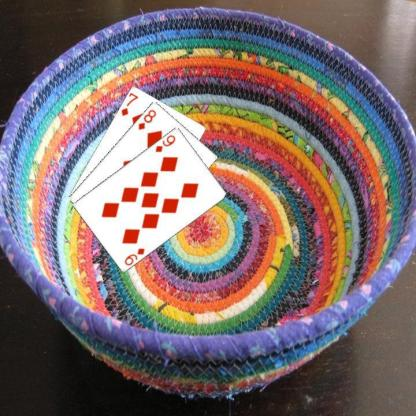7D: (118, 90, 140, 117)
8D: (136, 106, 157, 131)
9D: (152, 132, 177, 153), (122, 245, 146, 266)
